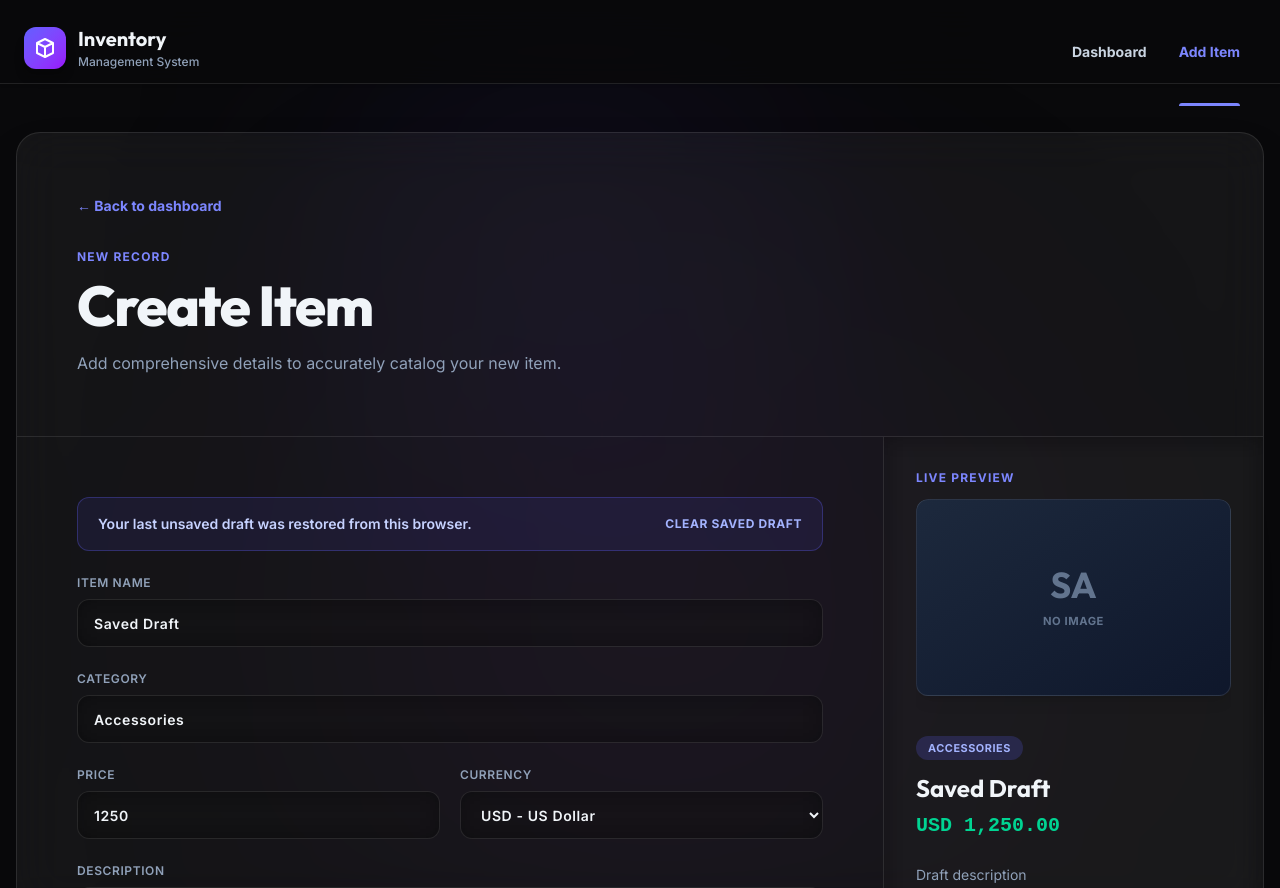
App › restores and clears an unsaved draft on the add item page
This screenshot has width=1280, height=888.
expect the field labelled "Item name" holds "Saved Draft": met, box [77, 599, 823, 647]
expect the text "Your last unsaved draft was restored from this browser." is shown: met, box [98, 514, 472, 534]
Click the button "Clear saved draft": (734,524) [665, 516, 802, 532]
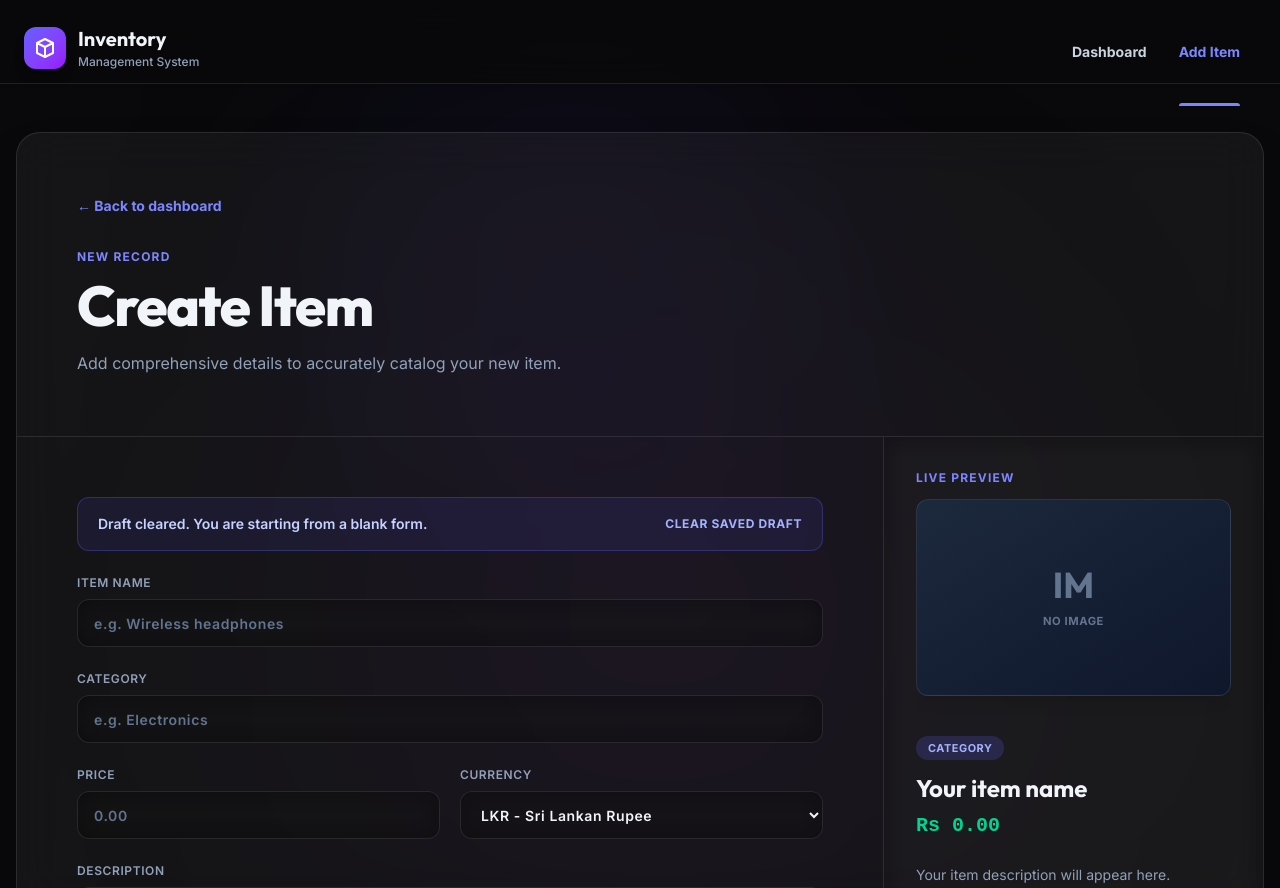
expect the field labelled "Item name" is empty: met, box [77, 599, 823, 647]
